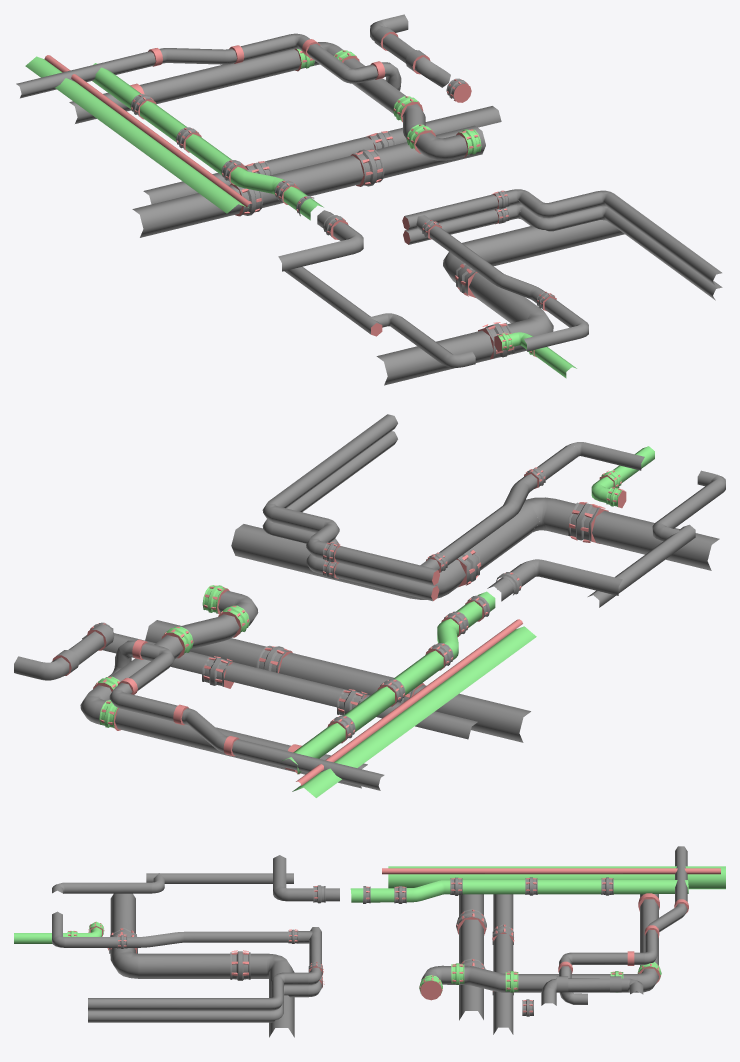
Rendered from S_Envi_Olgk_Common_Pipe_Merge_01l.gltf.
3 views of the same model, one above another, from view 1: azimuth 30°, elevation 25°; view 2: azimuth 150°, elevation 25°; view 3: azimuth 270°, elevation 25° (orthographic). The views are drawn at different scales.
Visible parts, largest first — view 1: S_Envi_Olgk_Common_Pipe_Merge_01l; view 2: S_Envi_Olgk_Common_Pipe_Merge_01l; view 3: S_Envi_Olgk_Common_Pipe_Merge_01l.
Boxes of the visible parts, x1,y1,x2,y2 form: S_Envi_Olgk_Common_Pipe_Merge_01l: (16,14,722,385); S_Envi_Olgk_Common_Pipe_Merge_01l: (14,414,725,797); S_Envi_Olgk_Common_Pipe_Merge_01l: (14,846,725,1037).
Bounding box in the file's own units: 28.83 × 5.15 × 56.15.
